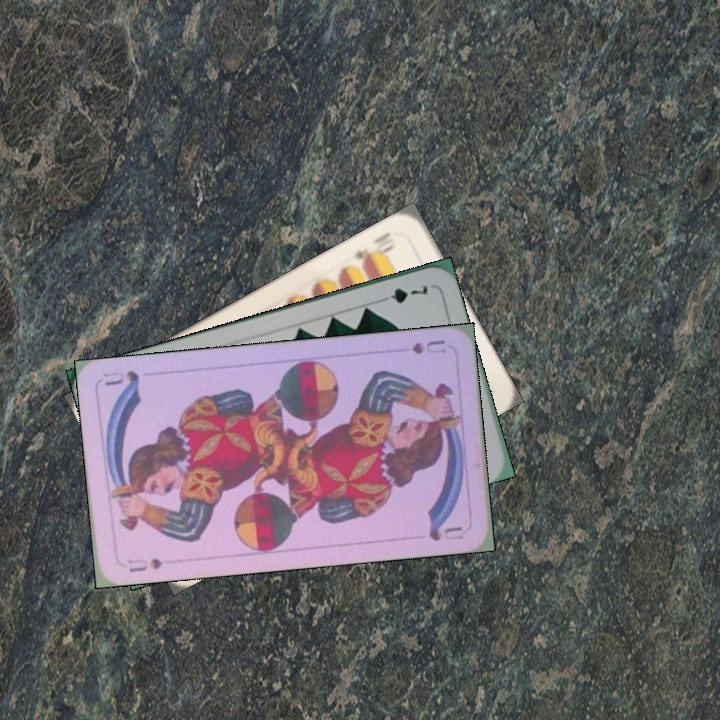E10: (348, 227, 398, 269)
G7: (374, 280, 431, 306)
SU: (123, 554, 165, 575), (408, 336, 448, 357)
